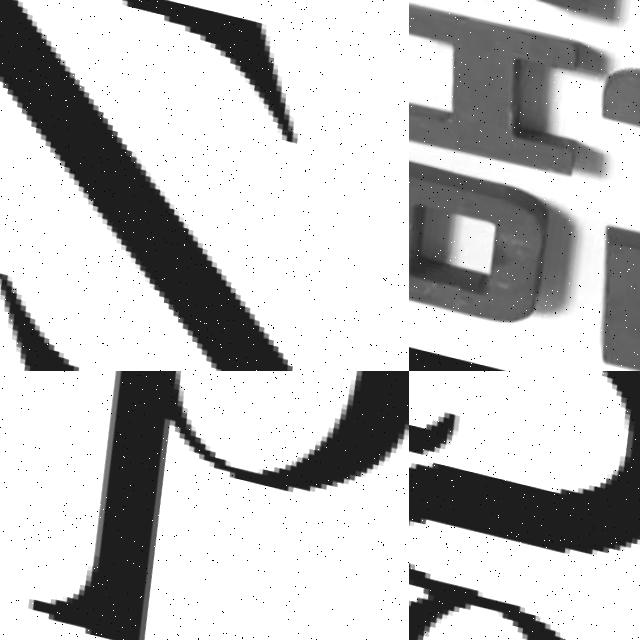B: (16, 371, 409, 640)
D: (409, 159, 560, 331)
E: (564, 223, 640, 371)
G: (409, 371, 640, 640)
I: (409, 0, 594, 184)
J: (570, 60, 640, 235)
Z: (0, 0, 409, 371)
